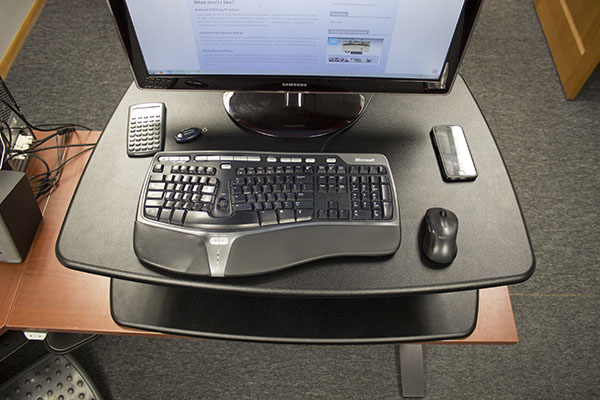keyboard: (138, 146, 405, 284)
monitor: (119, 1, 465, 104)
mouse: (414, 201, 467, 275)
